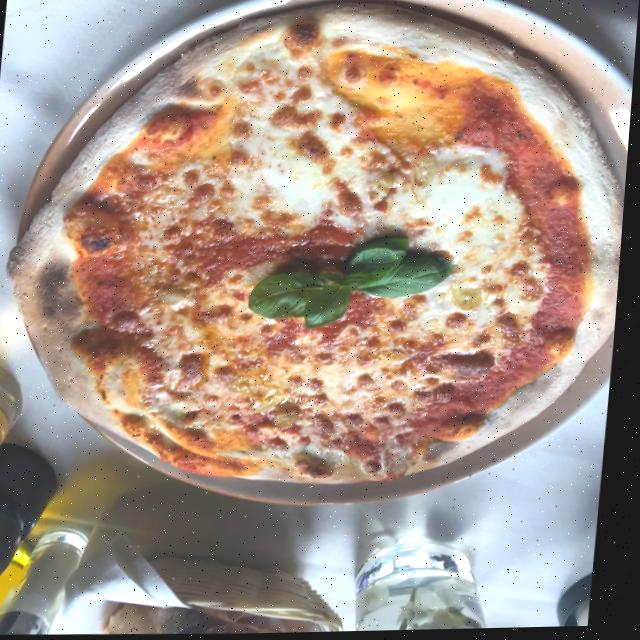basil: (251, 236, 459, 332)
pizza: (0, 0, 640, 494)
